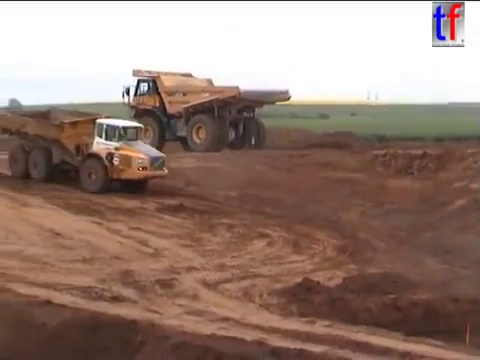truck: (1, 103, 171, 196), (120, 67, 293, 155)
